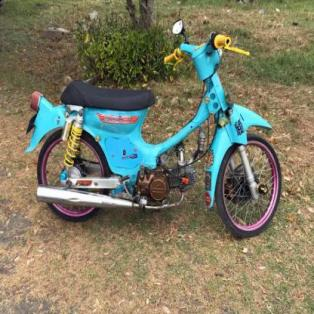Motocicleta: (20, 9, 286, 241)
